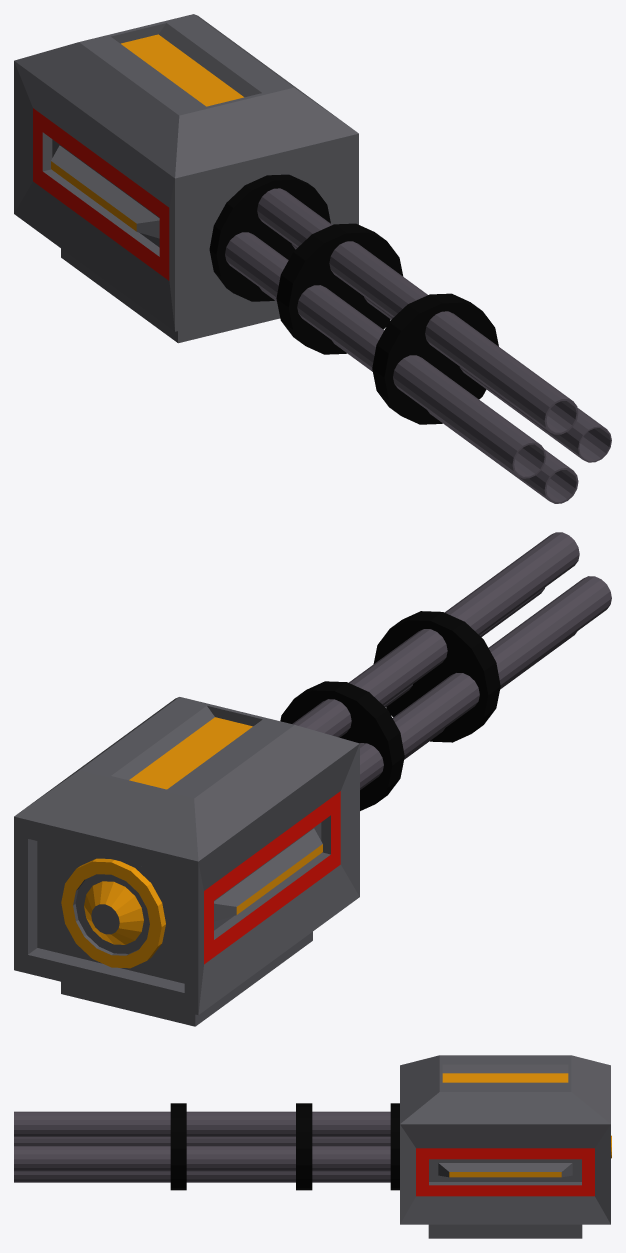
The model's file is rotary_cannon.glb.
3 renders of one model, top to bottom at view 1: azimuth 30°, elevation 25°; view 2: azimuth 150°, elevation 25°; view 3: azimuth 270°, elevation 25°, orthographic. The views are drawn at different scales.
Visible parts, largest first — view 1: Cylinder.007, Cylinder.006; view 2: Cylinder.007, Cylinder.006; view 3: Cylinder.007, Cylinder.006.
Boxes of the visible parts, bbox=[...] form: Cylinder.007: bbox=[14, 14, 358, 343]; Cylinder.006: bbox=[209, 174, 611, 503]; Cylinder.007: bbox=[14, 697, 359, 1026]; Cylinder.006: bbox=[280, 532, 611, 810]; Cylinder.007: bbox=[400, 1055, 611, 1238]; Cylinder.006: bbox=[14, 1103, 399, 1190].
Size of the model in its own units: 0.9123 by 1.03 by 3.89.
